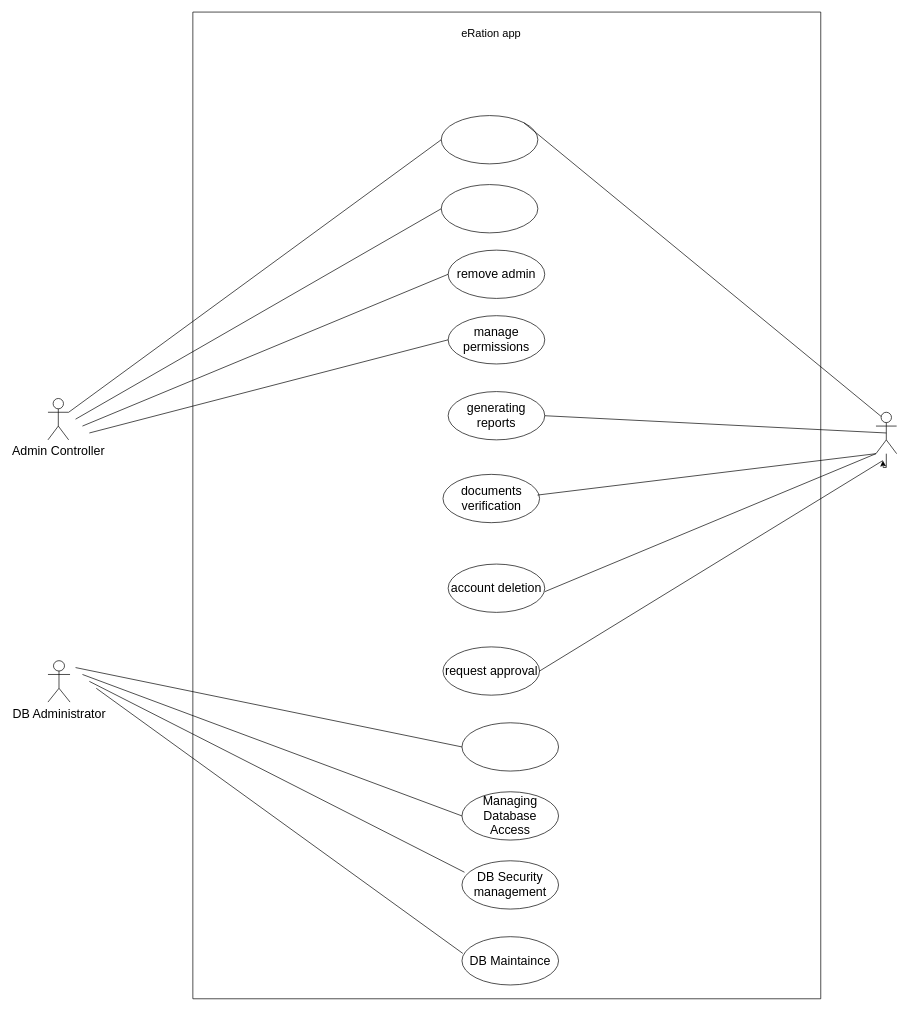
This 919x1011 diagram has some shape labels left out. Each missing label, with the centre of its shape:
add admin: pixel 489 208
Database Mamanagement: pixel 510 746
Login: pixel 489 139
Officers: pixel 886 433
